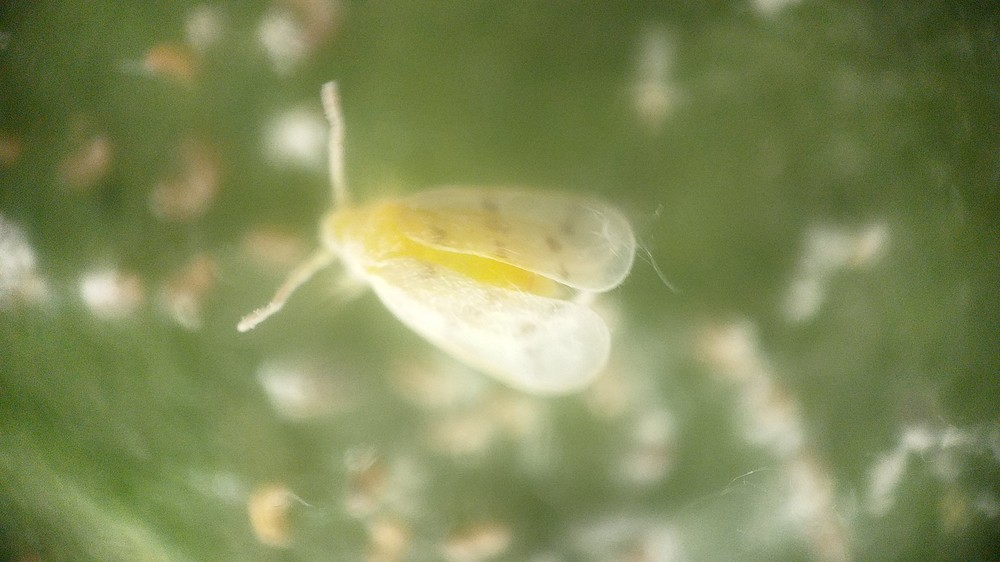Mosca Blanca: (228, 78, 664, 421)
